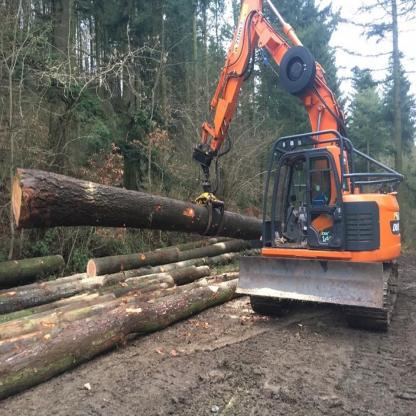excavator: (171, 5, 410, 344)
